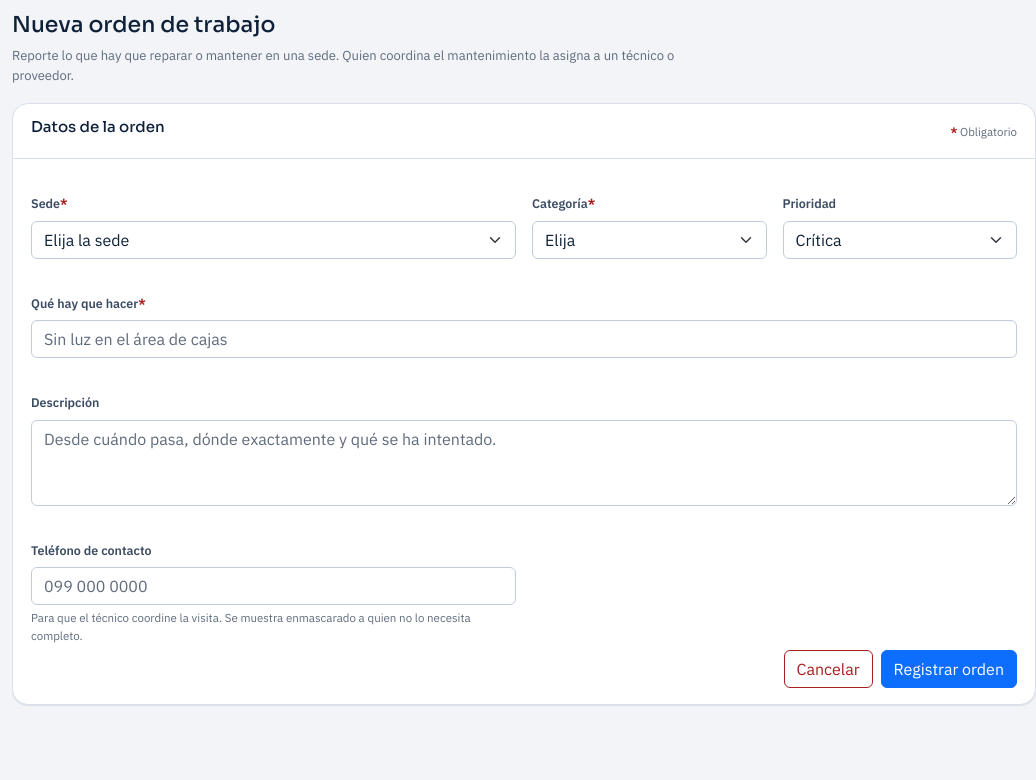
Test case: La nueva orden › el error del servidor de un campo aparece bajo ese campo
Select "Quito · Matriz · Quito" in the dropdown labelled "Sede *" at {"x": 274, "y": 240}, box [31,221,516,259]
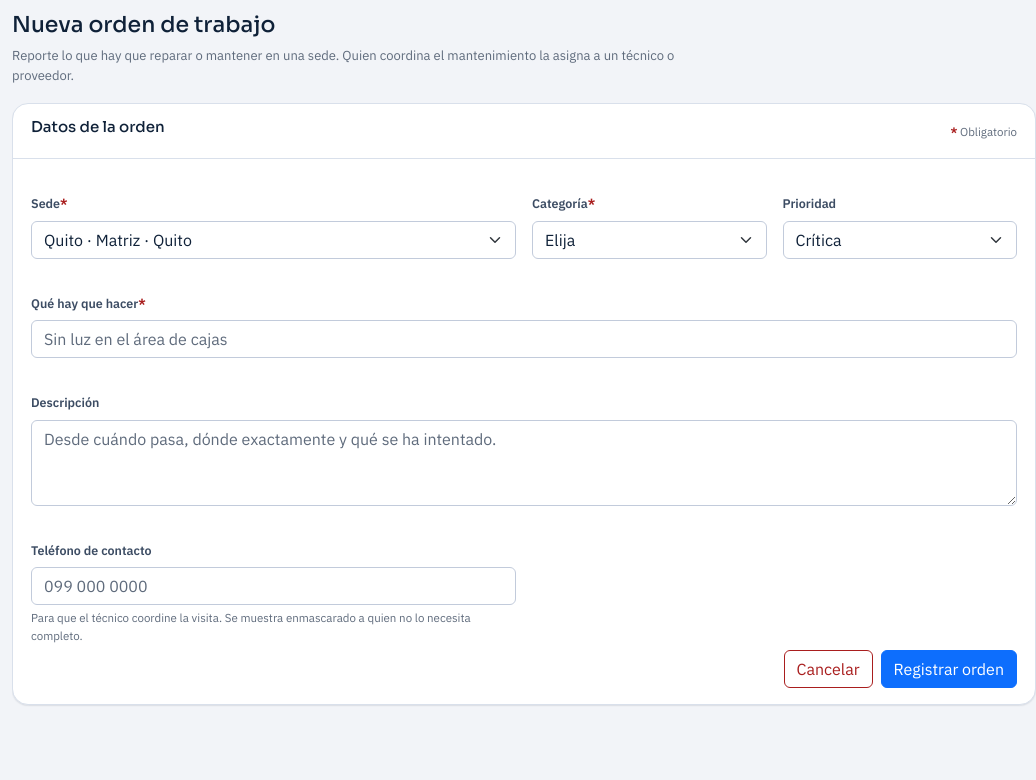
Select "Eléctrico" in the dropdown labelled "Categoría *" at {"x": 649, "y": 240}, box [532,221,766,259]
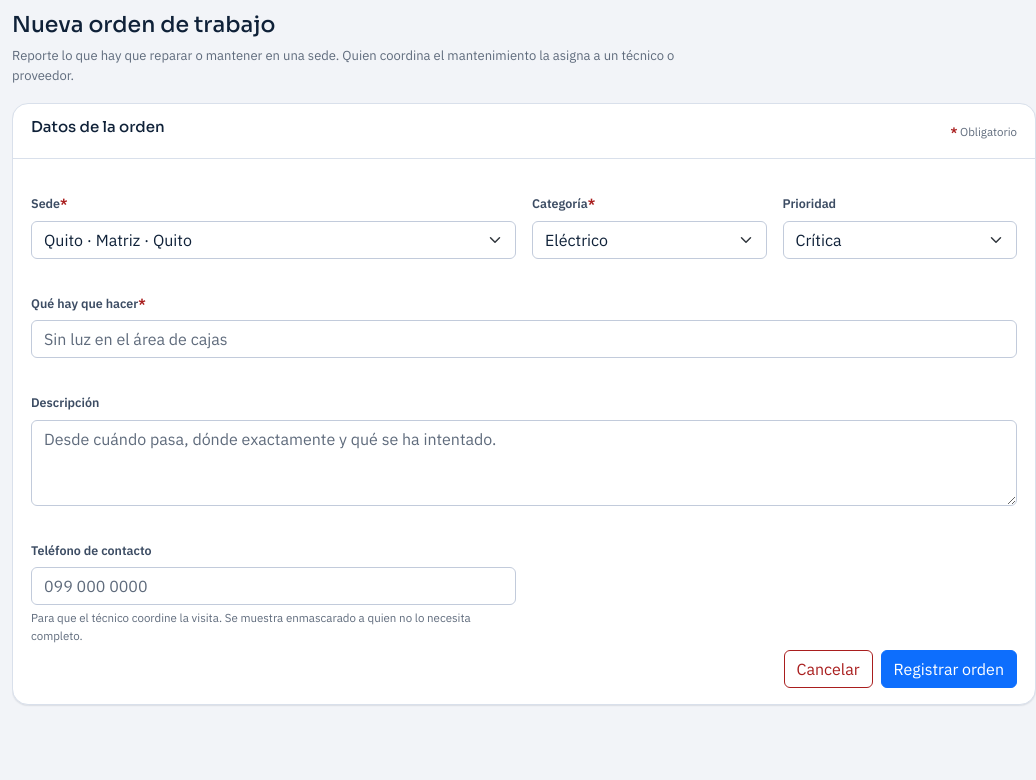
Type "Luz" into the field labelled "Qué hay que hacer *" at {"x": 524, "y": 339}, box [31,320,1017,358]
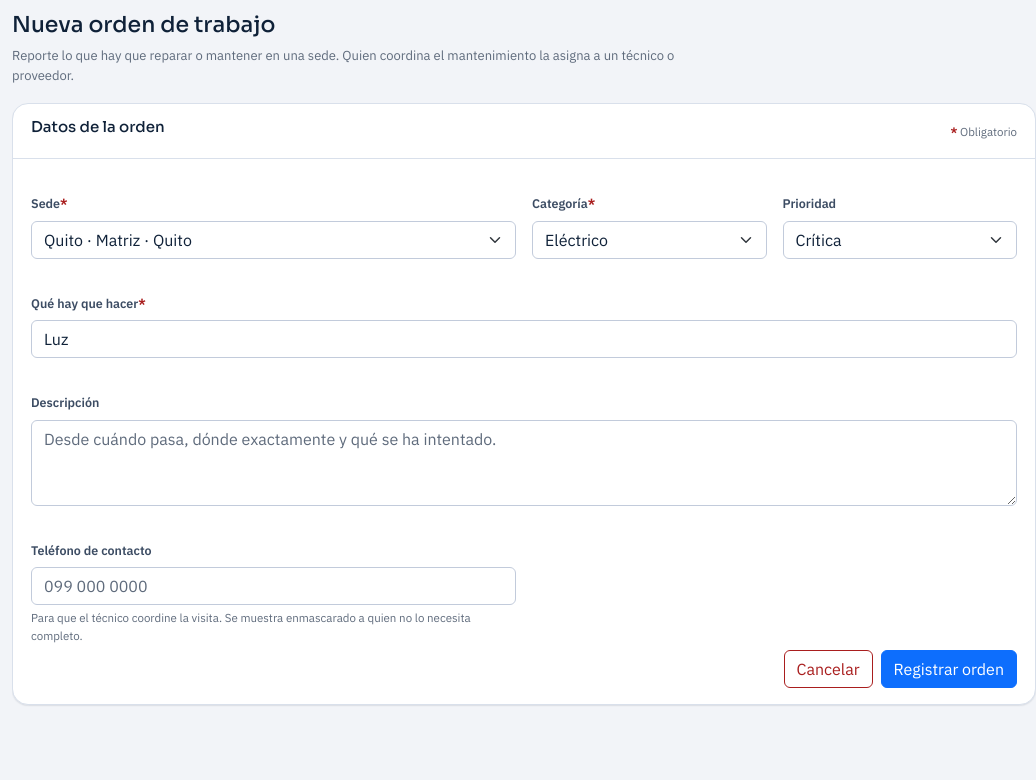
Click the button "Registrar orden" at {"x": 949, "y": 669}, box [881,650,1017,688]
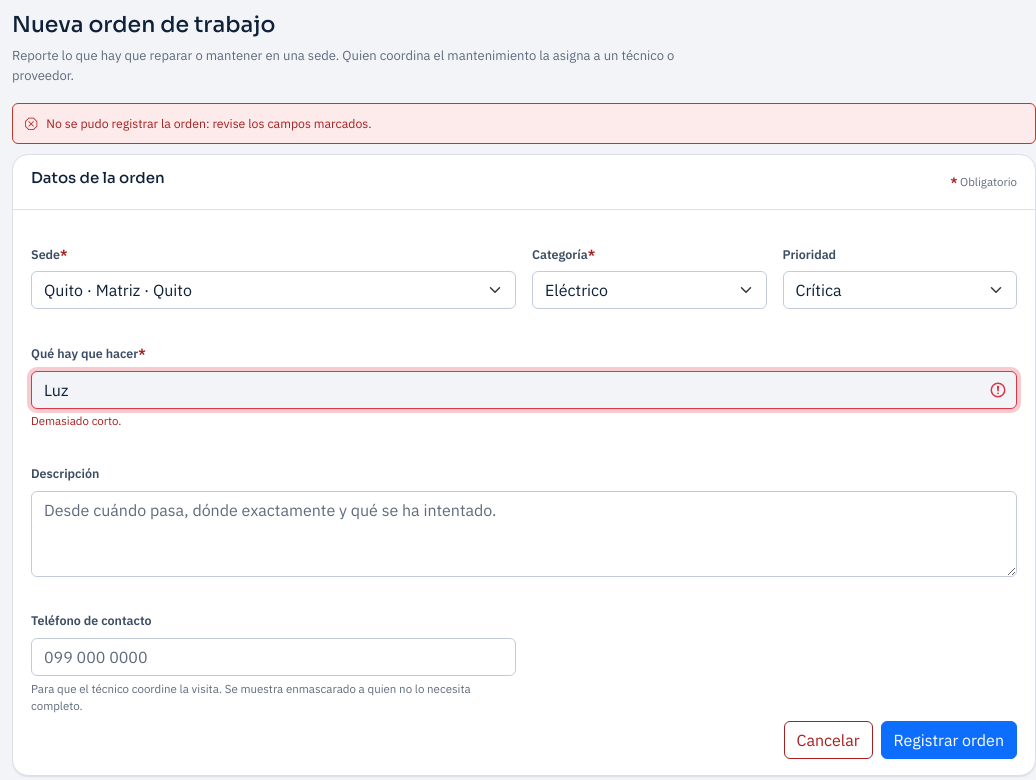
expect the text "Demasiado corto." is shown: met, box [31,413,121,428]
expect the message shows "revise los campos marcados": met, box [46,115,372,131]
